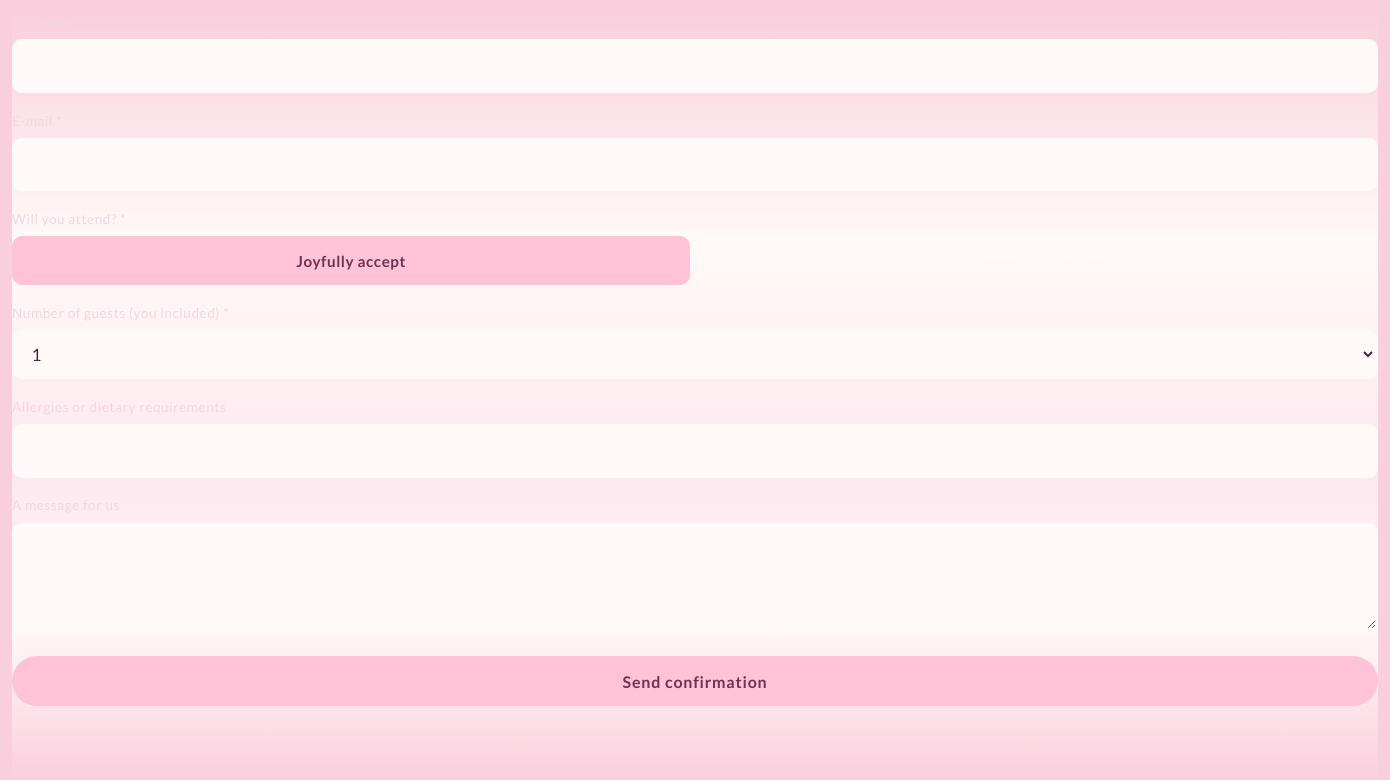
Test case: RsvpForm › does not submit and shows errors when required fields are empty
What coordinates should you click on to do the following:
click the button "Send confirmation"
I would click on:
 (695, 681)
Its box is [12, 656, 1378, 706].
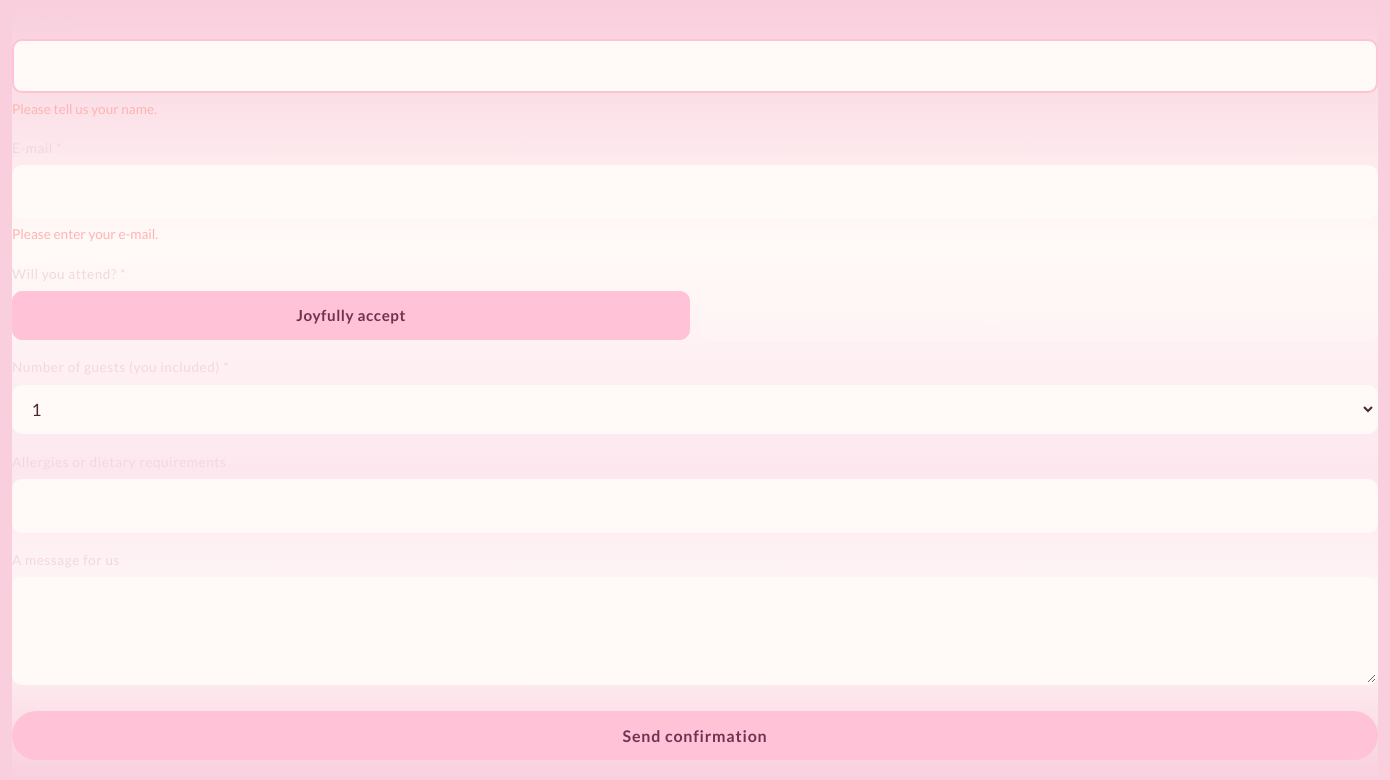
Expected: the text "Please tell us your name." is shown, [12, 100, 157, 116]
